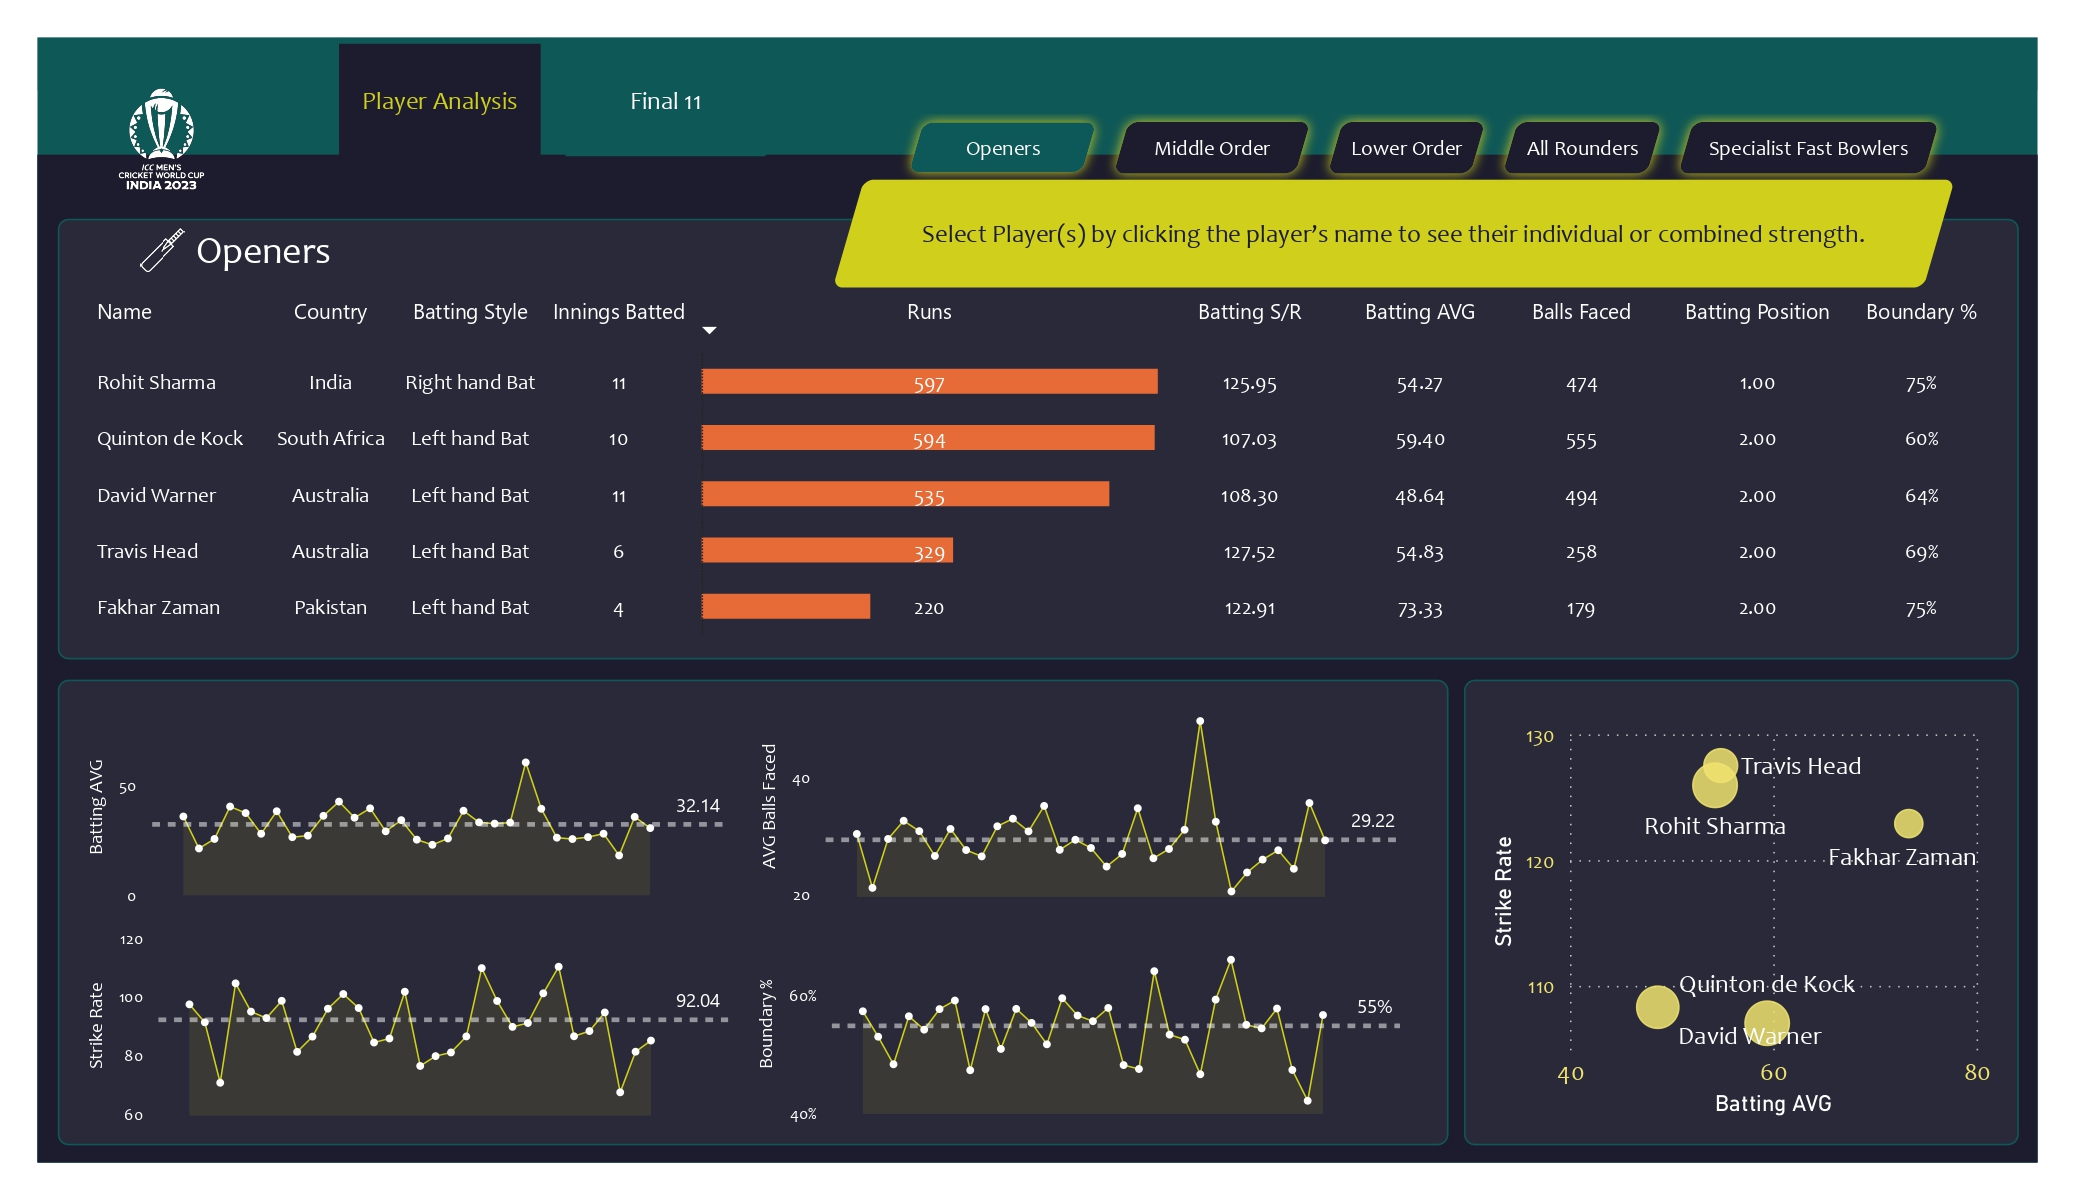

The dashboard page shown, as its layout file describes it:
{"tool":"powerbi","page":{"name":"Openers","canvas":[1280,720],"ordinal":0},"visuals":[{"type":"shape","box":[0,74.8,1280.8,645.2],"z":0},{"type":"shape","box":[913,411.3,354.6,297.9],"z":1000},{"type":"image","box":[60.8,114.5,38.2,42.4],"z":2000},{"type":"shape","box":[13.3,115.8,1254.3,282.2],"z":3000},{"type":"tableEx","title":"sdfsdfsdsdv","fields":{"Values":["player_details.name","player_details.country","player_details.battingStyle","key_measures.total innings batted","key_measures.total runs","key_measures.strike rate","key_measures.batting avg","key_measures.total balls faced","key_measures.Batting Position","key_measures.boundary %"]},"box":[26.5,150.8,1228.9,240],"z":4000},{"type":"scatterChart","fields":{"X":["key_measures.batting avg"],"Y":["key_measures.strike rate"],"Category":["player_details.name"],"Series":["player_details.name"],"Size":["key_measures.total runs"]},"box":[925,431.8,330.5,262.9],"z":5000},{"type":"shape","box":[49.5,118.7,190.8,32.5],"z":6000},{"type":"shape","box":[508.6,91.1,718.8,68.7],"z":7000},{"type":"card","fields":{"Values":["key_measures.batting avg"]},"box":[785.1,92.9,108.5,68.7],"z":8000},{"type":"card","fields":{"Values":["key_measures.strike rate"]},"box":[893.7,92.9,109.7,68.7],"z":9000},{"type":"card","fields":{"Values":["key_measures.boundary %"]},"box":[1115.6,92.9,104.9,68.7],"z":10000},{"type":"card","fields":{"Values":["key_measures.avg balls faced"]},"box":[1003.4,92.9,112.2,68.7],"z":11000},{"type":"shape","box":[539.1,98.9,246,57.9],"z":12000},{"type":"actionButton","box":[546.3,42.5,143.5,56],"z":13000},{"type":"actionButton","box":[676.6,42.5,150.8,56.7],"z":14000},{"type":"actionButton","box":[1038.4,42.5,190.6,56.7],"z":15000},{"type":"actionButton","box":[926.2,42.5,125.4,56.7],"z":16000},{"type":"actionButton","box":[814.1,42.5,125.4,56.7],"z":17000},{"type":"shape","box":[13.3,411.3,890.1,297.9],"z":18000},{"type":"areaChart","fields":{"Y":["key_measures.batting avg"],"Category":["match_summay.Match Date.Variation.Date Hierarchy.Day"]},"box":[26.5,422.1,420,140],"z":19000},{"type":"areaChart","fields":{"Y":["key_measures.avg balls faced"],"Category":["match_summay.Match Date.Variation.Date Hierarchy.Day"]},"box":[458.3,420.9,420.9,140],"z":20000},{"type":"areaChart","fields":{"Y":["key_measures.strike rate"],"Category":["match_summay.Match Date.Variation.Date Hierarchy.Day"]},"box":[26.5,562,420.9,140],"z":21000},{"type":"areaChart","fields":{"Y":["key_measures.boundary %"],"Category":["match_summay.Match Date.Variation.Date Hierarchy.Day"]},"box":[455.9,560.8,420.9,140],"z":22000},{"type":"image","box":[13.3,13.3,132.7,102.5],"z":23000},{"type":"actionButton","box":[189.3,0,136.3,79.6],"z":24000},{"type":"actionButton","box":[334.1,0,136.3,79.6],"z":25000},{"type":"shape","box":[558.7,99.5,618.7,51.9],"z":26000}]}

Visuals, with their boxes on the page's 1280x720 design canvas (x1, y1, x2, y2). These are canvas units, not pixel positions in the 2075x1200 screenshot, which may show the page scaled, cropped or inside an application window:
shape: detection(0, 75, 1281, 720)
shape: detection(913, 411, 1268, 709)
image: detection(61, 114, 99, 157)
shape: detection(13, 116, 1268, 398)
"sdfsdfsdsdv" tableEx: detection(26, 151, 1255, 391)
scatterChart - key_measures.batting avg x key_measures.strike rate: detection(925, 432, 1256, 695)
shape: detection(50, 119, 240, 151)
shape: detection(509, 91, 1227, 160)
card - key_measures.batting avg: detection(785, 93, 894, 162)
card - key_measures.strike rate: detection(894, 93, 1003, 162)
card - key_measures.boundary %: detection(1116, 93, 1220, 162)
card - key_measures.avg balls faced: detection(1003, 93, 1116, 162)
shape: detection(539, 99, 785, 157)
actionButton: detection(546, 42, 690, 98)
actionButton: detection(677, 42, 827, 99)
actionButton: detection(1038, 42, 1229, 99)
actionButton: detection(926, 42, 1052, 99)
actionButton: detection(814, 42, 940, 99)
shape: detection(13, 411, 903, 709)
areaChart - key_measures.batting avg x match_summay.Match Date.Variation.Date Hierarchy.Day: detection(26, 422, 446, 562)
areaChart - key_measures.avg balls faced x match_summay.Match Date.Variation.Date Hierarchy.Day: detection(458, 421, 879, 561)
areaChart - key_measures.strike rate x match_summay.Match Date.Variation.Date Hierarchy.Day: detection(26, 562, 447, 702)
areaChart - key_measures.boundary % x match_summay.Match Date.Variation.Date Hierarchy.Day: detection(456, 561, 877, 701)
image: detection(13, 13, 146, 116)
actionButton: detection(189, 0, 326, 80)
actionButton: detection(334, 0, 470, 80)
shape: detection(559, 100, 1177, 151)
